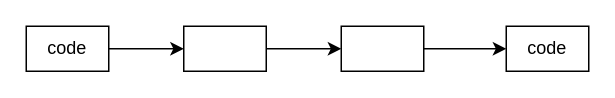
Some shapes in this 615 by 98 pixel diagram are drawn without their labels. The shapes that lost their labels are listed below. From the top down, each one's centre as x and y in pixels, then its label:
At (x=224, y=48): "AST".
At (x=382, y=48): "Format tree".
